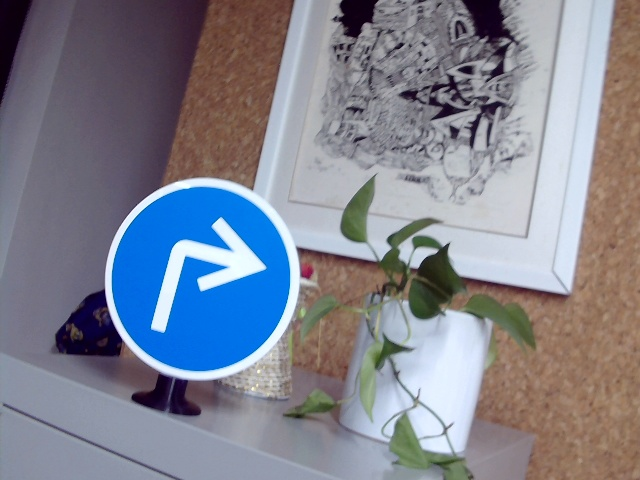turn_right: (151, 215, 268, 336)
